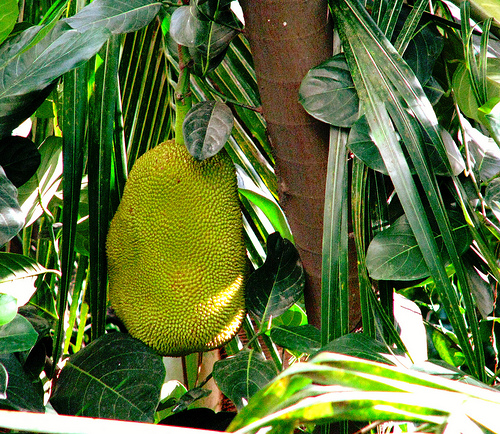jackfruit: (105, 136, 245, 354)
